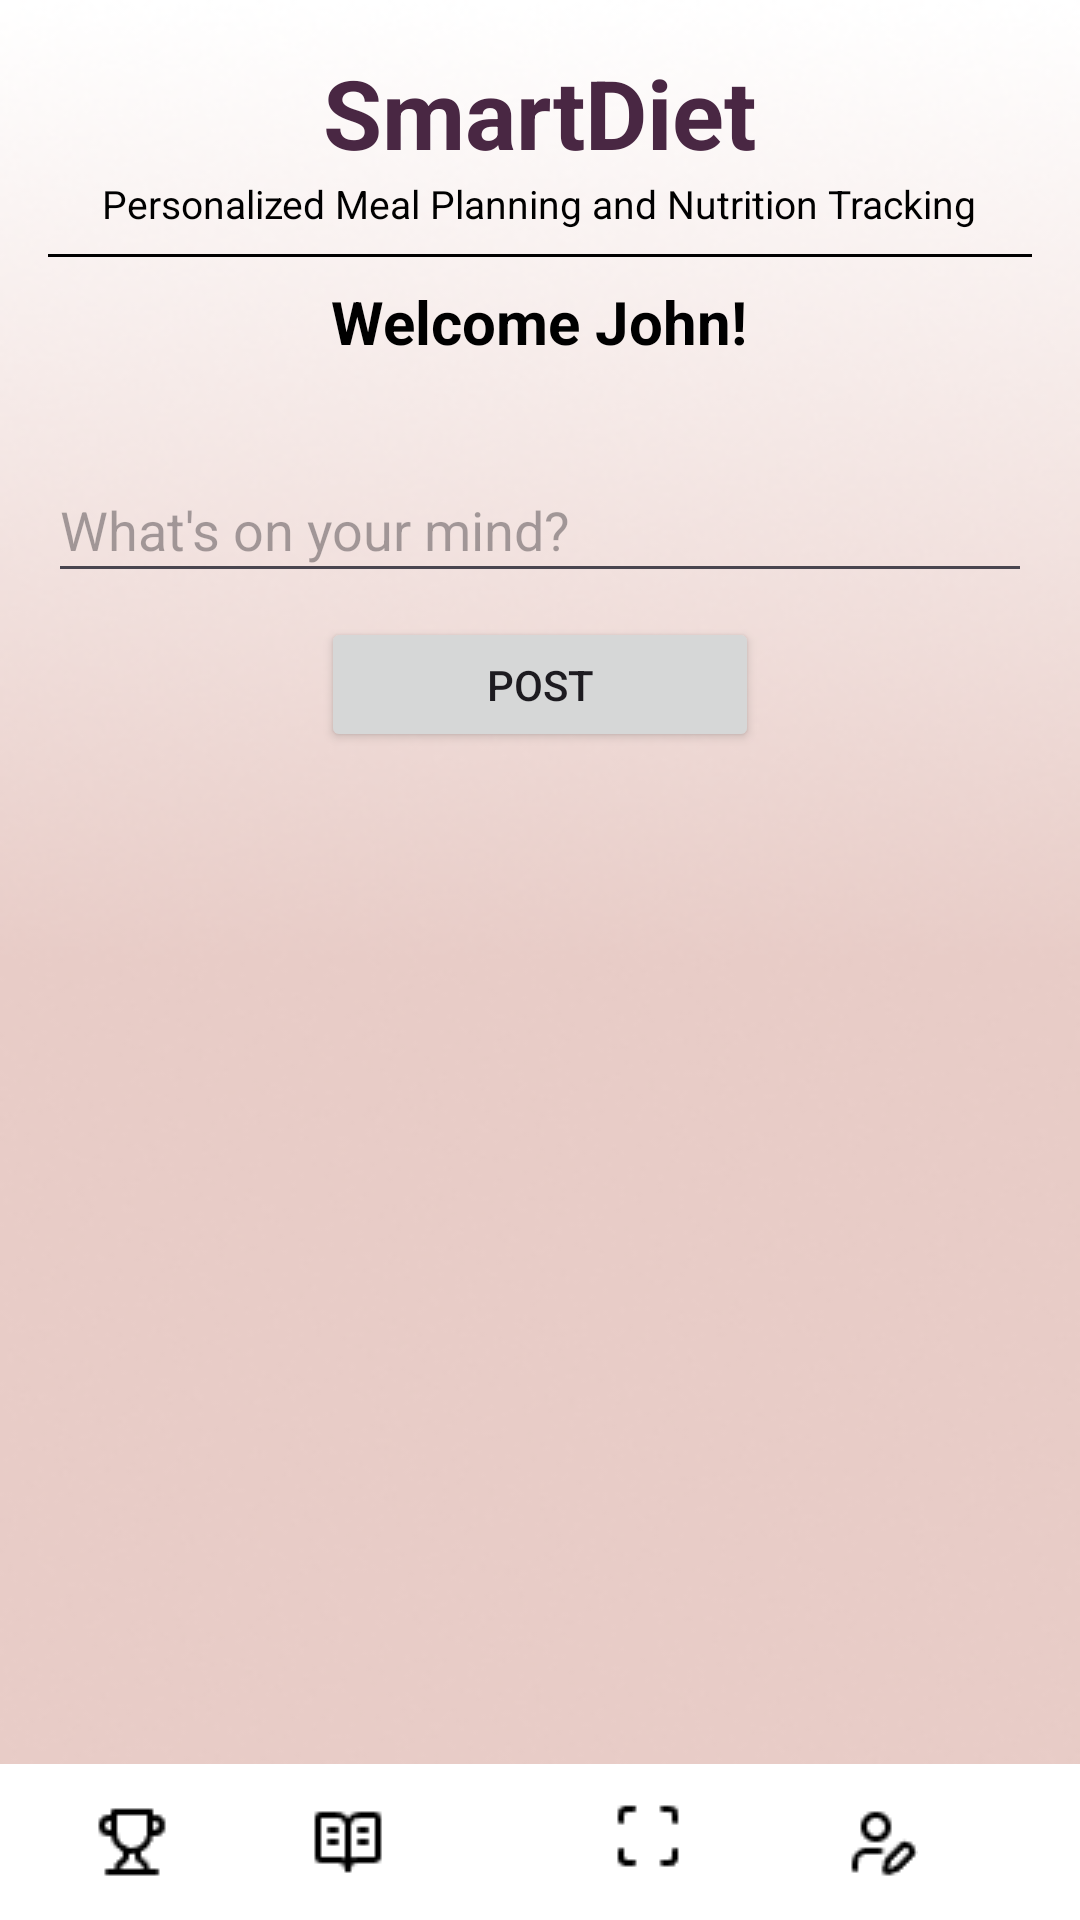

Screen size 1080px×1920px. Icon name, then its box in pixels as box=[x1, y1, x2, y2]:
book open text: box=[314, 1811, 382, 1873]
scan: box=[617, 1805, 679, 1867]
trophy: box=[98, 1808, 166, 1876]
user pen: box=[851, 1811, 918, 1876]
